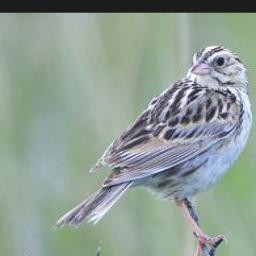Sparrow: (51, 45, 252, 256)
